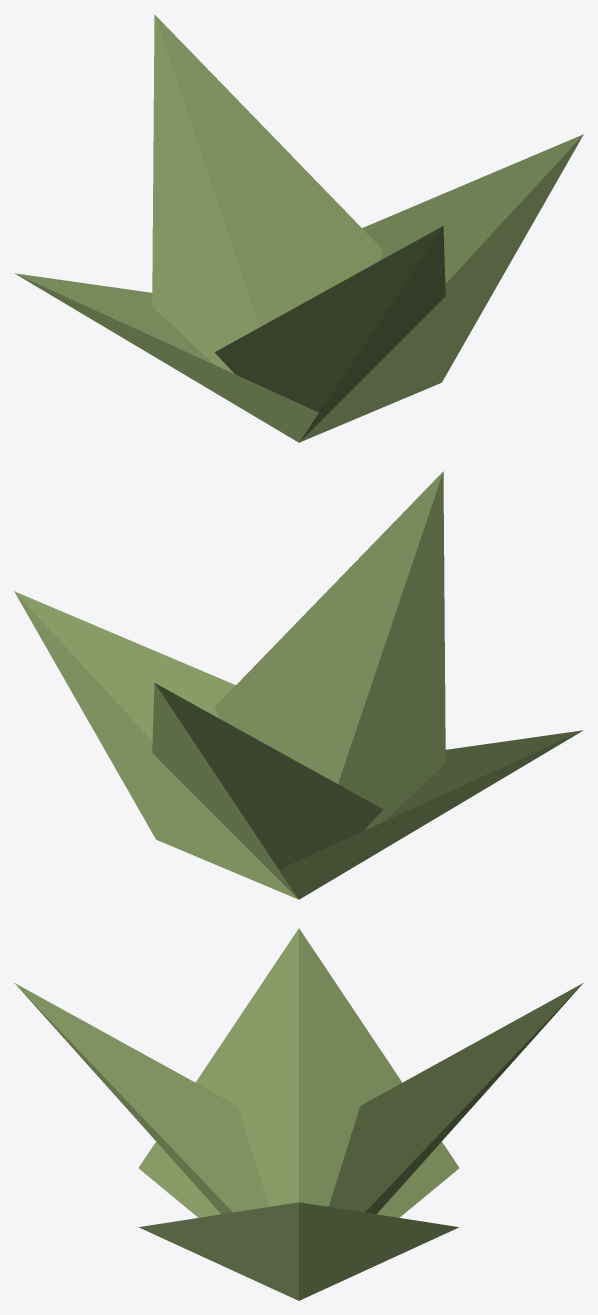
Rendered from plant_bushSmall.glb.
3 renders of one model, top to bottom at view 1: azimuth 30°, elevation 25°; view 2: azimuth 150°, elevation 25°; view 3: azimuth 270°, elevation 25°, orthographic.
Parts seen in each view (by area): view 1: plant_bushSmall; view 2: plant_bushSmall; view 3: plant_bushSmall.
Boxes of the visible parts, bbox=[...] form: plant_bushSmall: bbox=[15, 14, 583, 442]; plant_bushSmall: bbox=[14, 471, 582, 899]; plant_bushSmall: bbox=[14, 928, 583, 1300].
Size of the model in its own units: 0.383 by 0.2073 by 0.3363.
